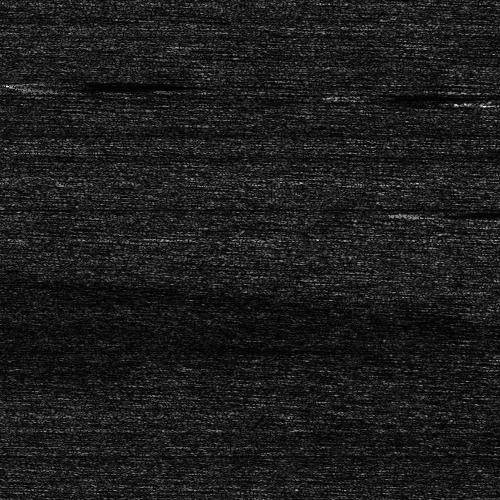rock: (21, 77, 94, 88), (297, 91, 370, 98), (438, 98, 500, 105), (400, 211, 463, 216)
shadow: (58, 77, 223, 88), (334, 91, 449, 98), (432, 211, 500, 216), (475, 98, 500, 105)
